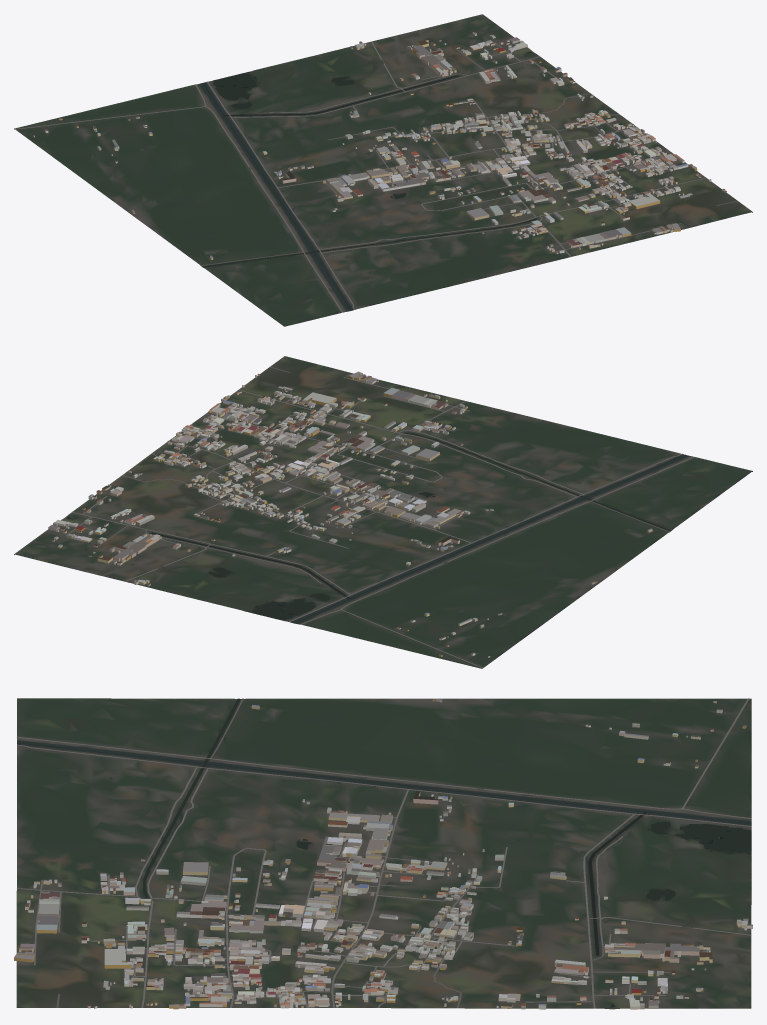
3 views of the same model, one above another, from view 1: azimuth 30°, elevation 25°; view 2: azimuth 150°, elevation 25°; view 3: azimuth 270°, elevation 25° (orthographic). The views are drawn at different scales.
Visible parts, largest first — view 1: ground, buildings, roads, water; view 2: ground, buildings, roads, water; view 3: ground, buildings, roads, water.
Boxes of the visible parts, left/top/right/bottom form: ground: left=14, top=14, right=752, bottom=326; buildings: left=33, top=32, right=726, bottom=259; roads: left=15, top=41, right=737, bottom=312; water: left=200, top=52, right=536, bottom=311; ground: left=14, top=356, right=752, bottom=668; buildings: left=48, top=371, right=652, bottom=657; roads: left=65, top=366, right=694, bottom=668; water: left=67, top=432, right=689, bottom=623; ground: left=16, top=698, right=751, bottom=1009; buildings: left=14, top=698, right=752, bottom=1009; roads: left=17, top=698, right=751, bottom=1008; water: left=17, top=698, right=751, bottom=1007.
Size of the model in its own units: 1405 by 15.1 by 1409.
